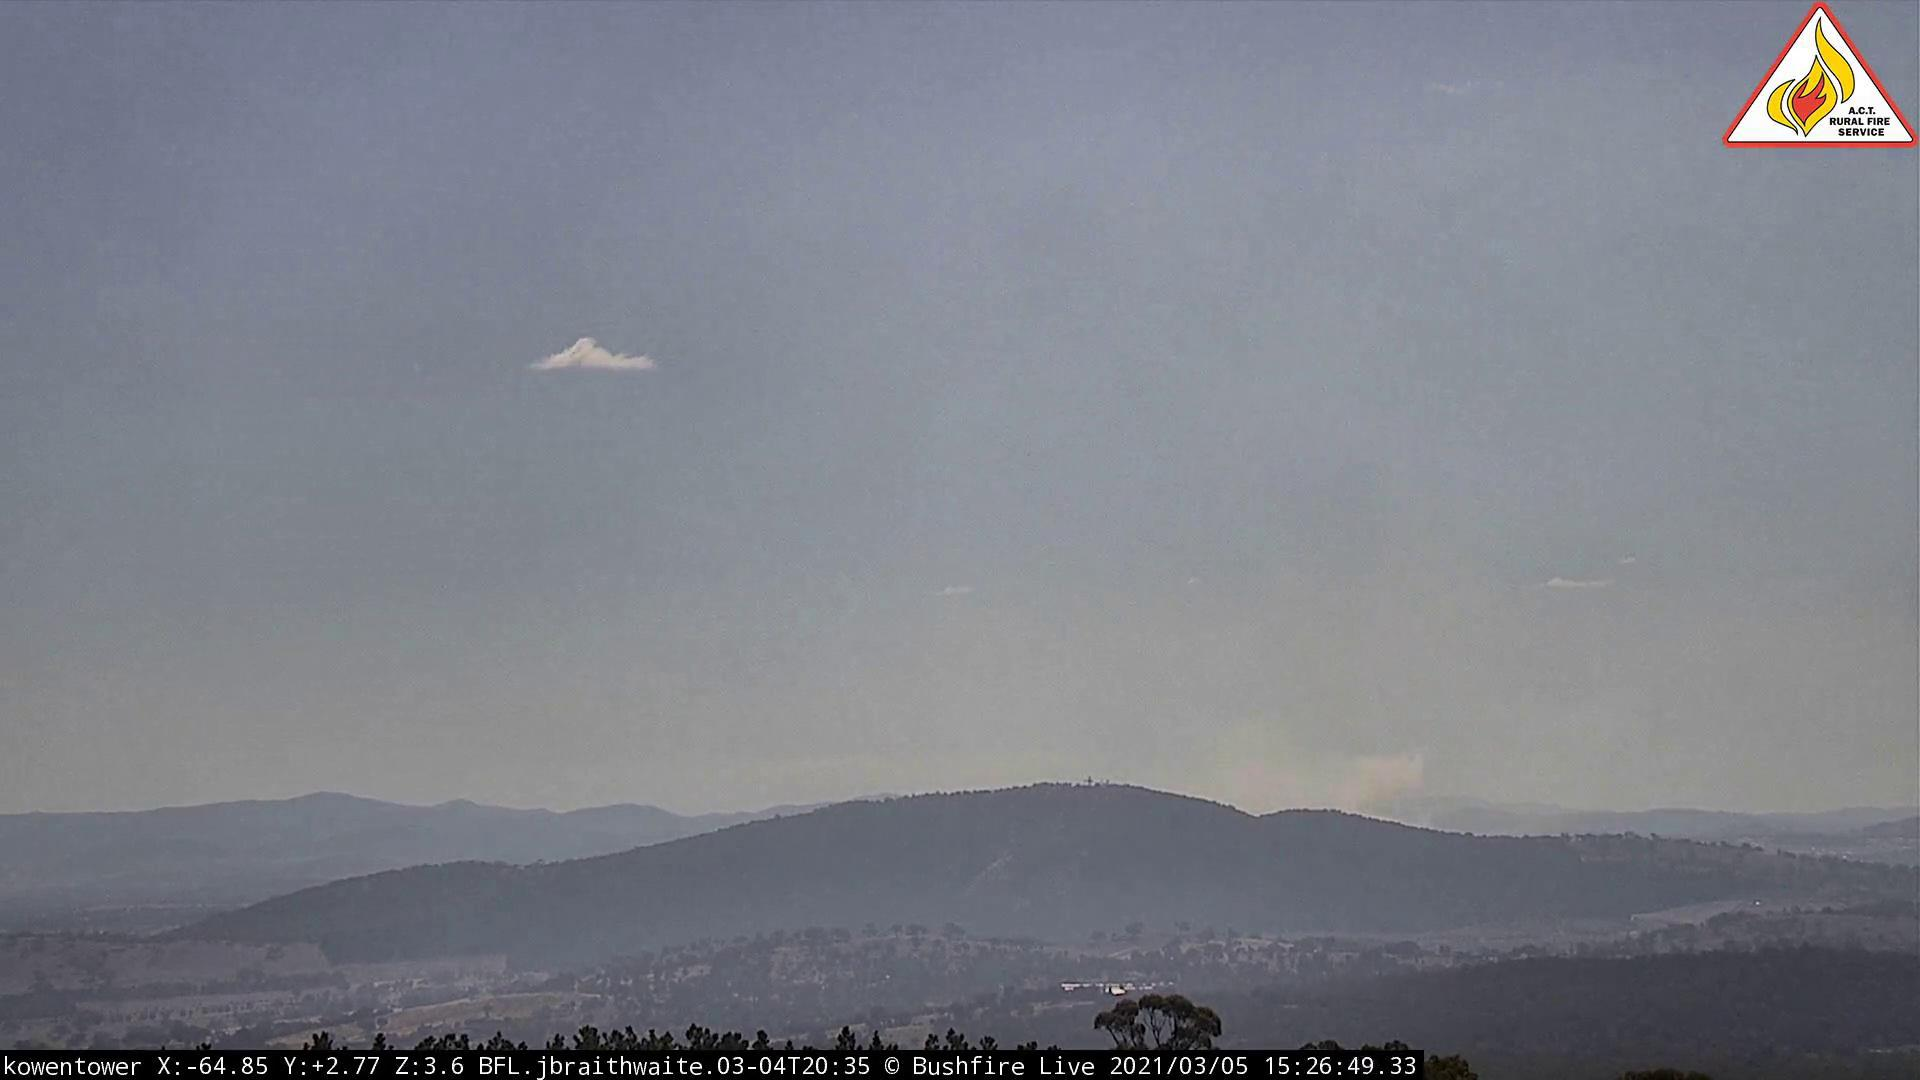Smoke: (688, 447, 1449, 841)
